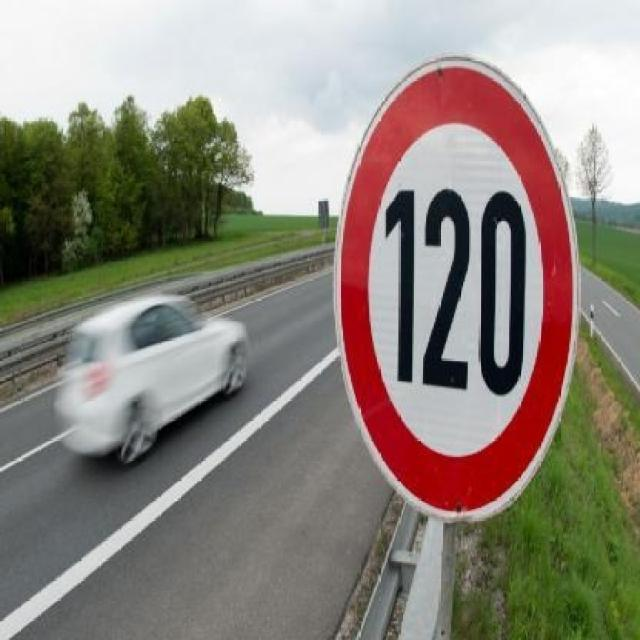forb_speed_over_120: (339, 63, 576, 520)
